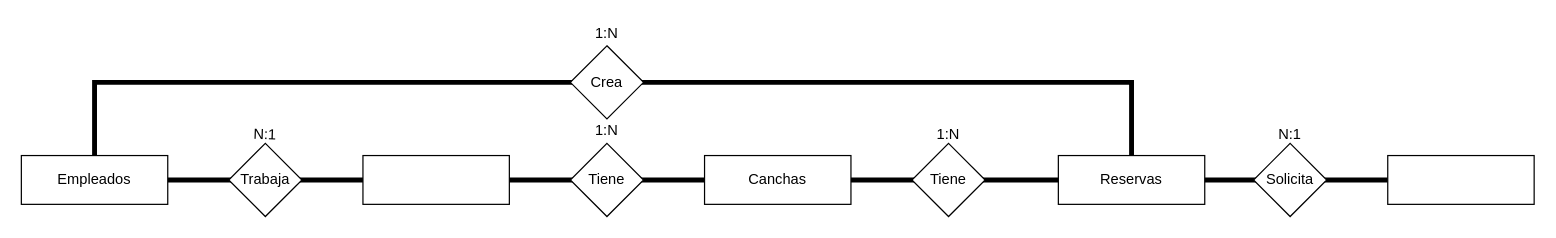
Image size: 1556x238. Some labels were removed from this diagram. Here are the shapes that lost their labels. From the top down, the centre of each, then its label:
At [435,179]: "Sucursales".
At [1460,179]: "Clientes".
